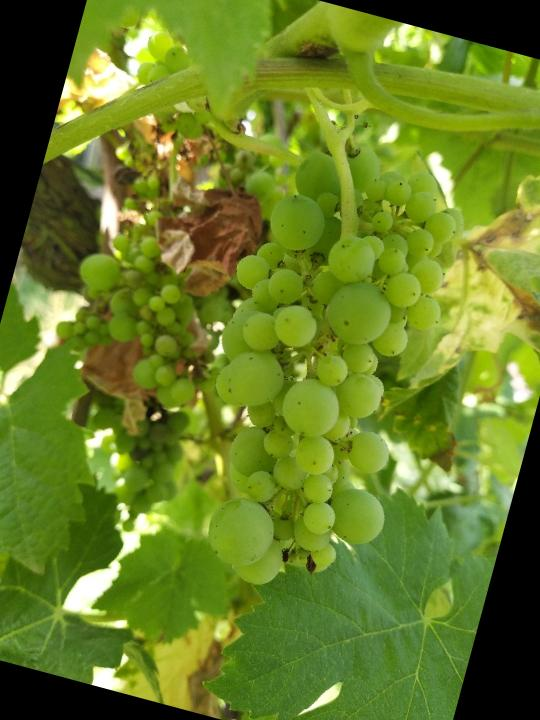grape: (160, 120, 480, 616)
